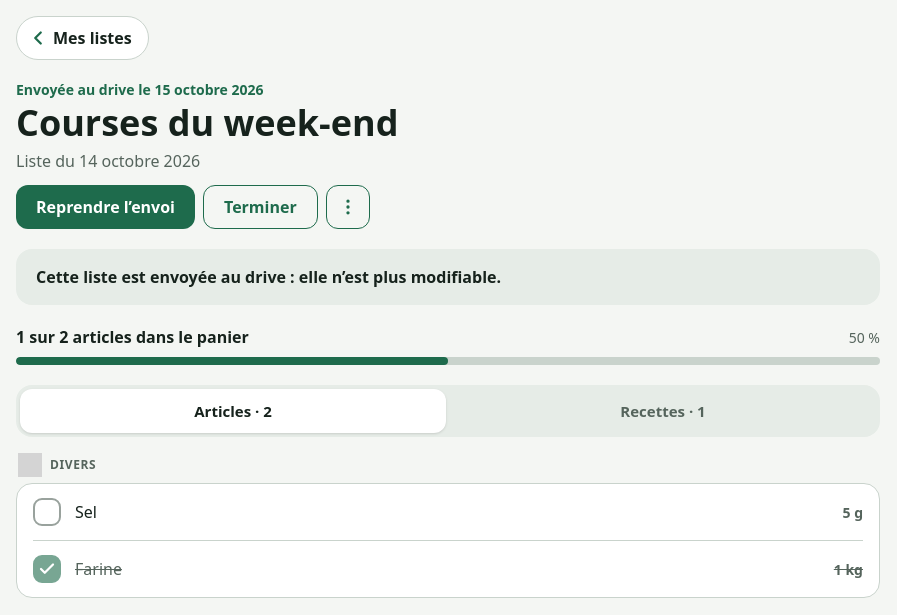
Test case: liste envoyée au drive (page de la liste) › ne propose que reprendre l’envoi, terminer, rouvrir et supprimer
The image size is (897, 615).
Expected: the heading "Courses du week-end" is shown, [16, 98, 398, 147]
Step 1. Click the button named "Plus d’actions" → (348, 207), box [326, 185, 370, 229]
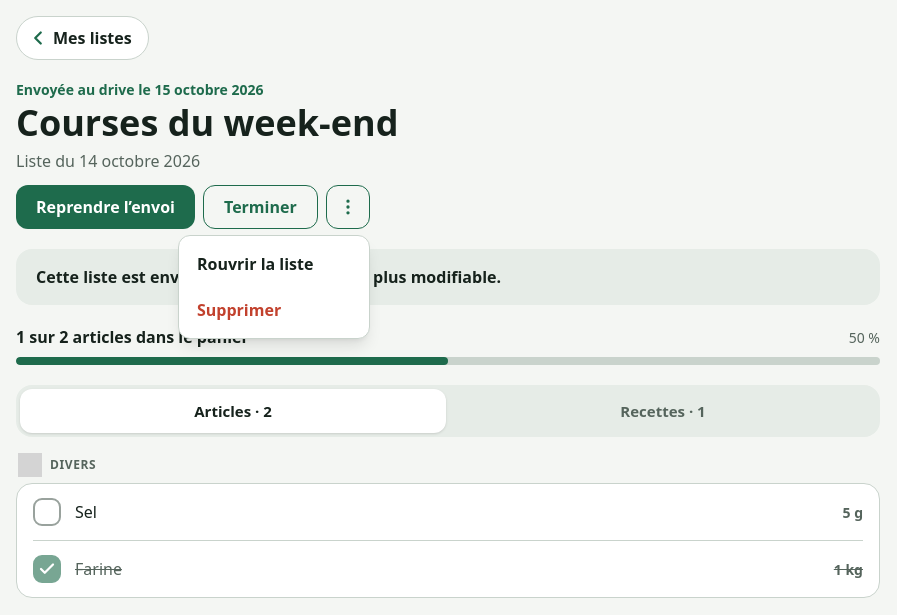
Now the menu item "Rouvrir la liste" is shown, box [197, 253, 314, 275]
